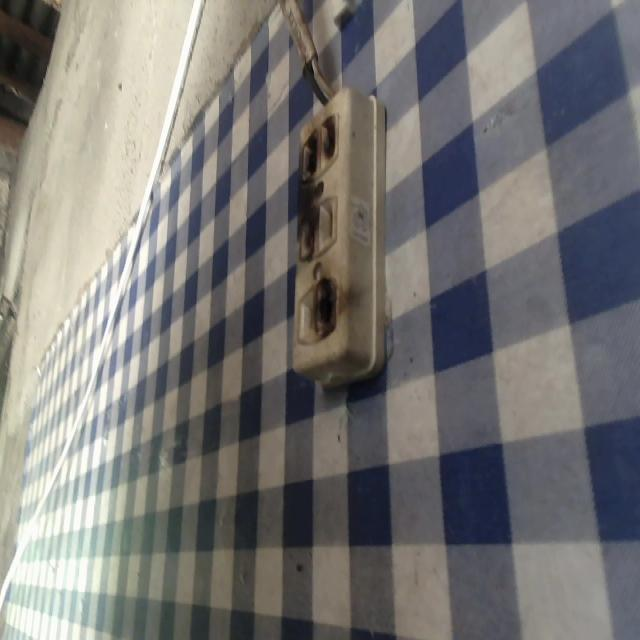-: (290, 106, 348, 178), (308, 267, 348, 348), (281, 197, 325, 264)
